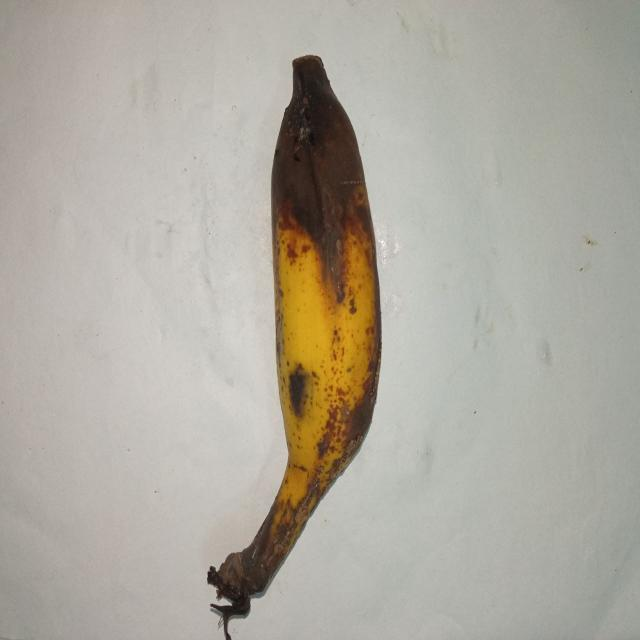rotten_banana: (244, 56, 381, 587)
